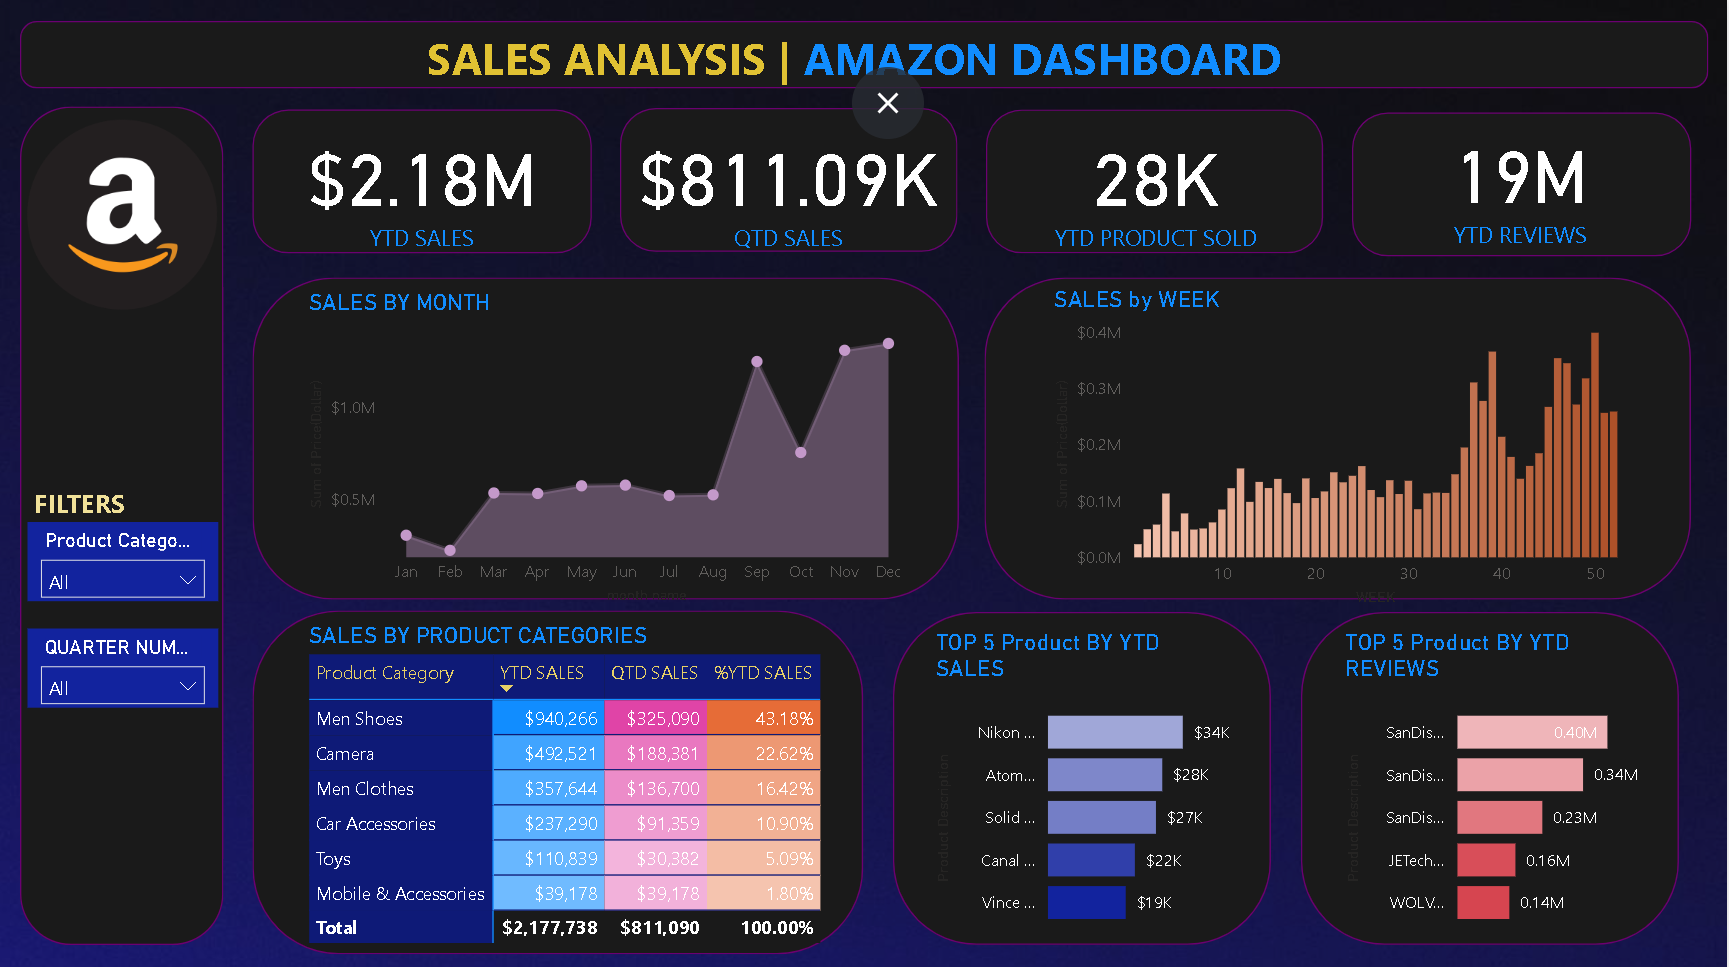

What the dashboard file says about the page in this screenshot:
{"tool":"powerbi","page":{"name":"Page 1","canvas":[1280,720],"ordinal":0},"visuals":[{"type":"shape","box":[187.7,205.2,523.3,238.6],"z":0},{"type":"shape","box":[187.7,81.7,251.3,106.6],"z":1000},{"type":"shape","box":[15.1,15.1,1250.7,50],"z":2000},{"type":"textbox","box":[311.8,15.1,657.6,62.4],"z":3000},{"type":"shape","box":[15.9,77.9,149.5,629.9],"z":4000},{"type":"card","fields":{"Values":["Amazon_Data.YTD SALES"]},"box":[214.7,83.2,197.2,108.2],"z":5000},{"type":"shape","box":[460.1,79.5,250,106.6],"z":6000},{"type":"shape","box":[731.2,81.7,249.7,106.6],"z":7000},{"type":"shape","box":[1002.1,83.2,251.3,106.6],"z":8000},{"type":"card","fields":{"Values":["Amazon_Data.QTD SALES"]},"box":[467.6,83.2,233.8,108.2],"z":9000},{"type":"card","fields":{"Values":["Amazon_Data.YTD PRODUCT SALES"]},"box":[739.6,83.2,233.8,108.2],"z":10000},{"type":"card","fields":{"Values":["Amazon_Data.YTD REVIEWS"]},"box":[1010,81.1,233.8,108.2],"z":11000},{"type":"areaChart","title":"SALES BY MONTH","fields":{"Category":["Date table.month name"],"Y":["Amazon_Data.Price(Dollar)"]},"box":[224.3,213.1,453.3,238.6],"z":12000},{"type":"shape","box":[730.1,205.2,523.3,238.6],"z":13000},{"type":"columnChart","title":"SALES by WEEK","fields":{"Category":["DATE TABLE.WEEK"],"Y":["Amazon_Data.Price(Dollar)"]},"box":[776.2,211.6,432.6,241.8],"z":14000},{"type":"shape","box":[187.8,452.8,452.8,254.9],"z":15000},{"type":"pivotTable","title":"SALES BY PRODUCT CATEGORIES","fields":{"Rows":["Amazon_Data.Product Category"],"Values":["Amazon_Data.YTD SALES","Amazon_Data.QTD SALES","Divide(Amazon_Data.YTD SALES, ScopedEval(Amazon_Data.YTD SALES, []))"]},"box":[224.7,459.5,400,248.2],"z":16000},{"type":"shape","box":[663.3,453.3,279.9,254.5],"z":17000},{"type":"shape","box":[963.9,453.3,279.9,254.5],"z":18000},{"type":"barChart","title":" TOP 5  Product BY YTD SALES","fields":{"Category":["Amazon_Data.Product Description"],"Y":["Amazon_Data.YTD SALES"]},"box":[688.7,466,235.4,241.8],"z":19000},{"type":"barChart","title":" TOP 5  Product BY YTD REVIEWS","fields":{"Category":["Amazon_Data.Product Description"],"Y":["Amazon_Data.YTD REVIEWS"]},"box":[992.5,466,233.8,241.8],"z":20000},{"type":"image","box":[15.1,83.2,151.2,151.2],"z":21000},{"type":"slicer","fields":{"Values":["Amazon_Data.Product Category"]},"box":[20.7,386.5,141.6,58.9],"z":22000},{"type":"slicer","fields":{"Values":["DATE TABLE.QUARTER NUMBER"]},"box":[20.7,466,141.6,58.9],"z":23000},{"type":"textbox","box":[20.7,354.7,105,35],"z":24000}]}

Visuals, with their boxes in screenshot pixels (x1, y1, x2, y2), scaled from the page's 1280x720 canvas onto the 1729x967 screenshot:
shape: locate(254, 276, 960, 596)
shape: locate(254, 110, 593, 253)
shape: locate(20, 20, 1710, 87)
textbox: locate(421, 20, 1309, 104)
shape: locate(21, 105, 223, 951)
card - Amazon_Data.YTD SALES: locate(290, 112, 556, 257)
shape: locate(621, 107, 959, 250)
shape: locate(988, 110, 1325, 253)
shape: locate(1354, 112, 1693, 255)
card - Amazon_Data.QTD SALES: locate(632, 112, 947, 257)
card - Amazon_Data.YTD PRODUCT SALES: locate(999, 112, 1315, 257)
card - Amazon_Data.YTD REVIEWS: locate(1364, 109, 1680, 254)
"SALES BY MONTH" areaChart: locate(303, 286, 915, 607)
shape: locate(986, 276, 1693, 596)
"SALES by WEEK" columnChart: locate(1048, 284, 1633, 609)
shape: locate(254, 608, 865, 950)
"SALES BY PRODUCT CATEGORIES" pivotTable: locate(304, 617, 844, 950)
shape: locate(896, 609, 1274, 951)
shape: locate(1302, 609, 1680, 951)
" TOP 5  Product BY YTD SALES" barChart: locate(930, 626, 1248, 951)
" TOP 5  Product BY YTD REVIEWS" barChart: locate(1341, 626, 1656, 951)
image: locate(20, 112, 225, 315)
slicer - Amazon_Data.Product Category: locate(28, 519, 219, 598)
slicer - DATE TABLE.QUARTER NUMBER: locate(28, 626, 219, 705)
textbox: locate(28, 476, 170, 523)
